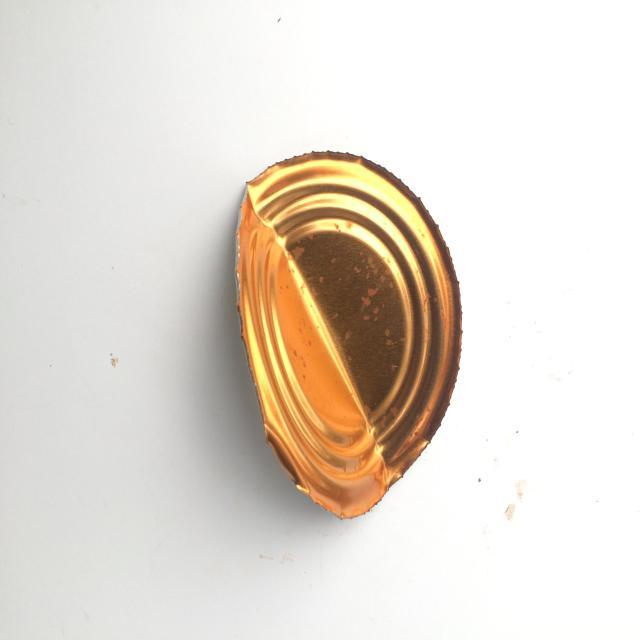metal: (233, 154, 467, 518)
